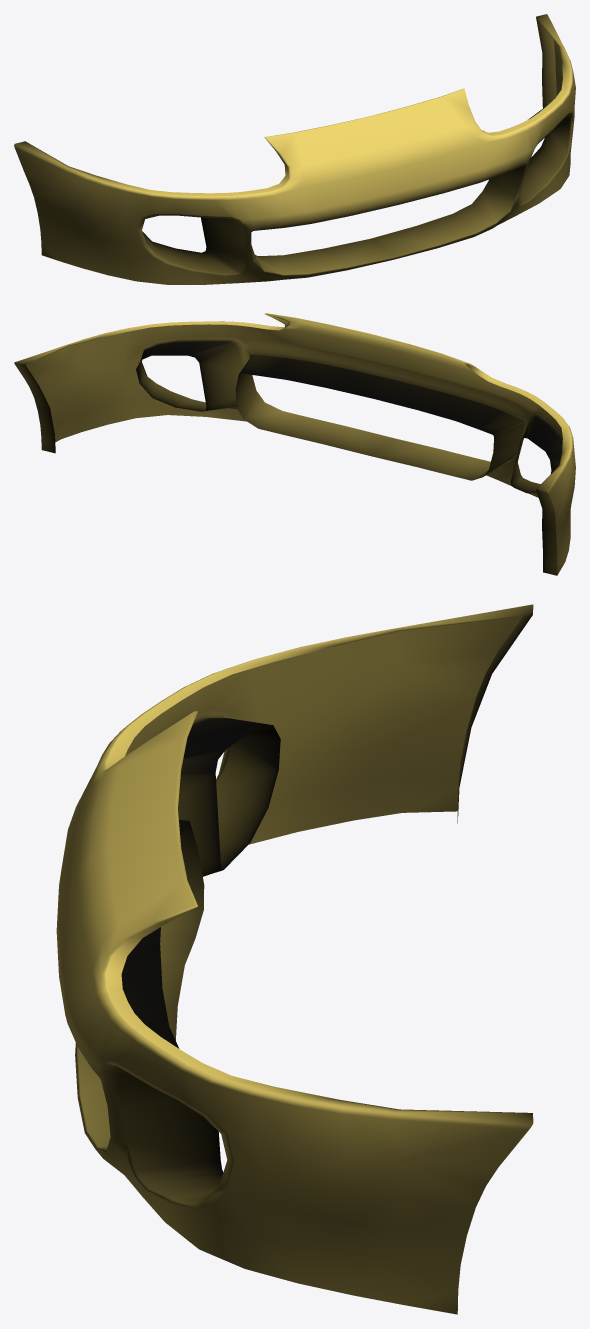
Rendered from Supra_FrontBar_04_Duco.fbx.
3 renders of one model, top to bottom at view 1: azimuth 30°, elevation 25°; view 2: azimuth 150°, elevation 25°; view 3: azimuth 270°, elevation 25°, orthographic. The views are drawn at different scales.
Parts seen in each view (by area): view 1: Supra_FrontBar_04_Duco; view 2: Supra_FrontBar_04_Duco; view 3: Supra_FrontBar_04_Duco.
Part boxes in pixels (x1=…): Supra_FrontBar_04_Duco: x1=14, y1=14, x2=575, y2=284; Supra_FrontBar_04_Duco: x1=14, y1=313, x2=575, y2=575; Supra_FrontBar_04_Duco: x1=56, y1=604, x2=533, y2=1314.
Bounding box in the file's own units: 176 × 40.23 × 68.12.
